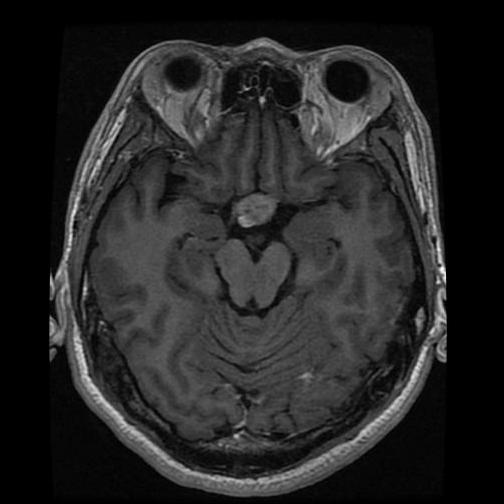Tumour-Pituitary: (227, 191, 284, 230)
